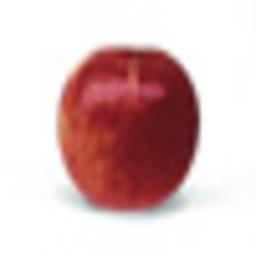apple: (53, 46, 201, 212)
